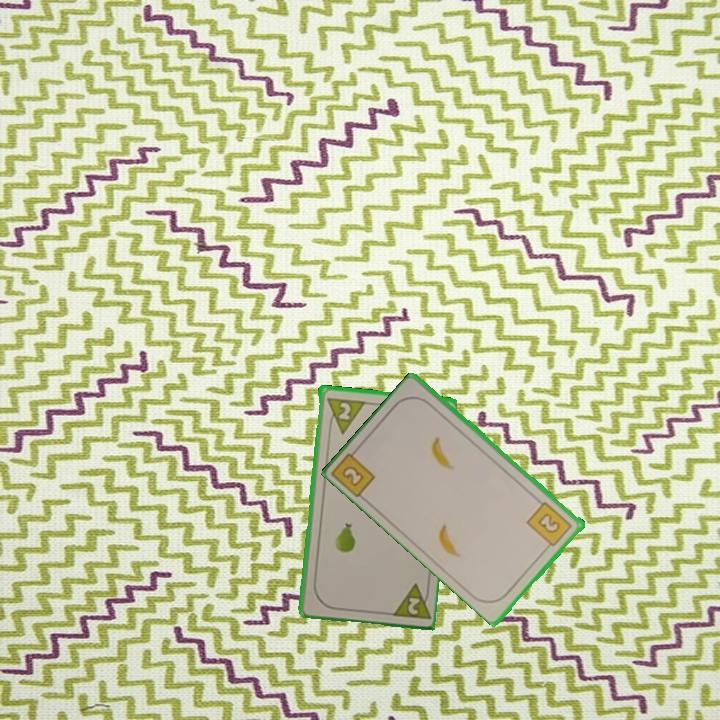2b: (330, 442, 379, 500), (523, 498, 575, 552)
2p: (386, 579, 432, 622), (334, 398, 353, 423)
